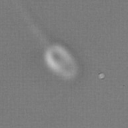normal: (14, 1, 48, 45)
